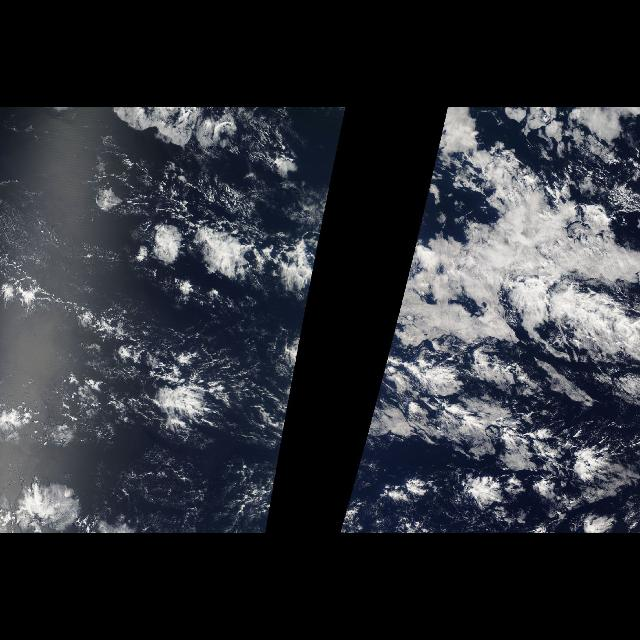Flower: (92, 111, 334, 441), (383, 110, 637, 406), (386, 468, 570, 532), (2, 472, 90, 534)
